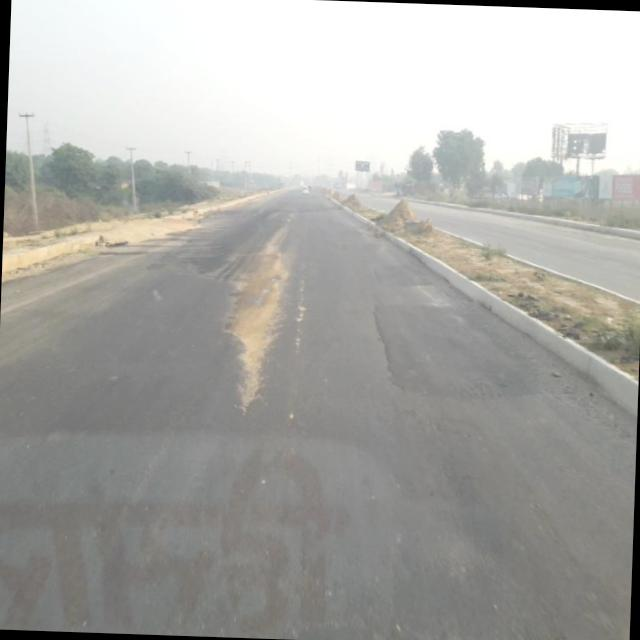crack: (282, 251, 304, 376)
